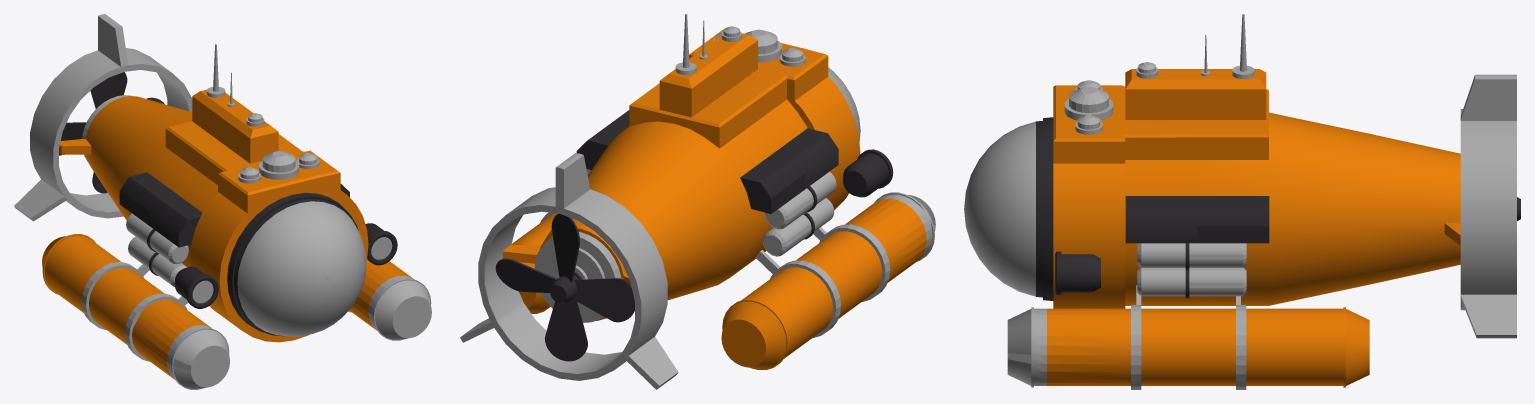
File: mini_sub_BOSS.fbx
3 renders of one model, left to right at view 1: azimuth 30°, elevation 25°; view 2: azimuth 150°, elevation 25°; view 3: azimuth 270°, elevation 25°, orthographic. The views are drawn at different scales.
Visible parts, largest first — view 1: polySurface2382, polySurface2371; view 2: polySurface2382, polySurface2371; view 3: polySurface2382.
Boxes of the visible parts, x1,y1,x2,y2 form: polySurface2382: [14, 14, 431, 389]; polySurface2371: [59, 72, 164, 193]; polySurface2382: [460, 14, 935, 389]; polySurface2371: [495, 214, 634, 361]; polySurface2382: [964, 14, 1516, 389].
Size of the model in its own units: 217 by 203 by 328.
